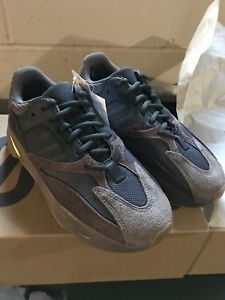adidas Yeezy 700 Mauve: (3, 63, 175, 256), (66, 48, 225, 210)
